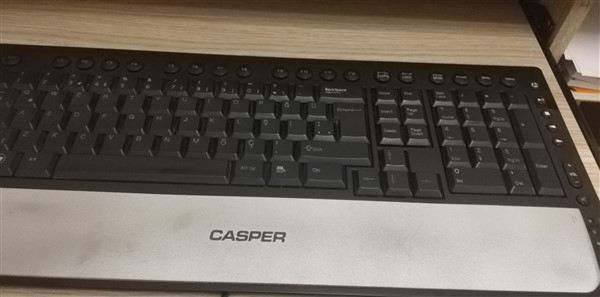klavye: (1, 41, 596, 297)
